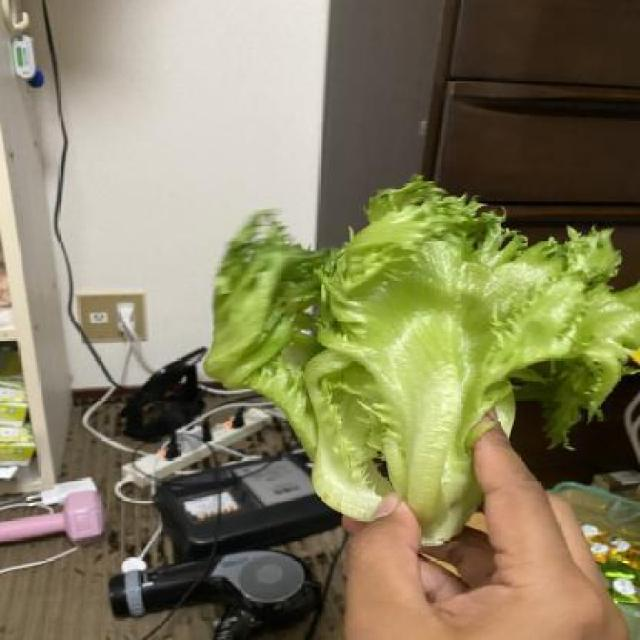Lettuce: (198, 173, 640, 552)
